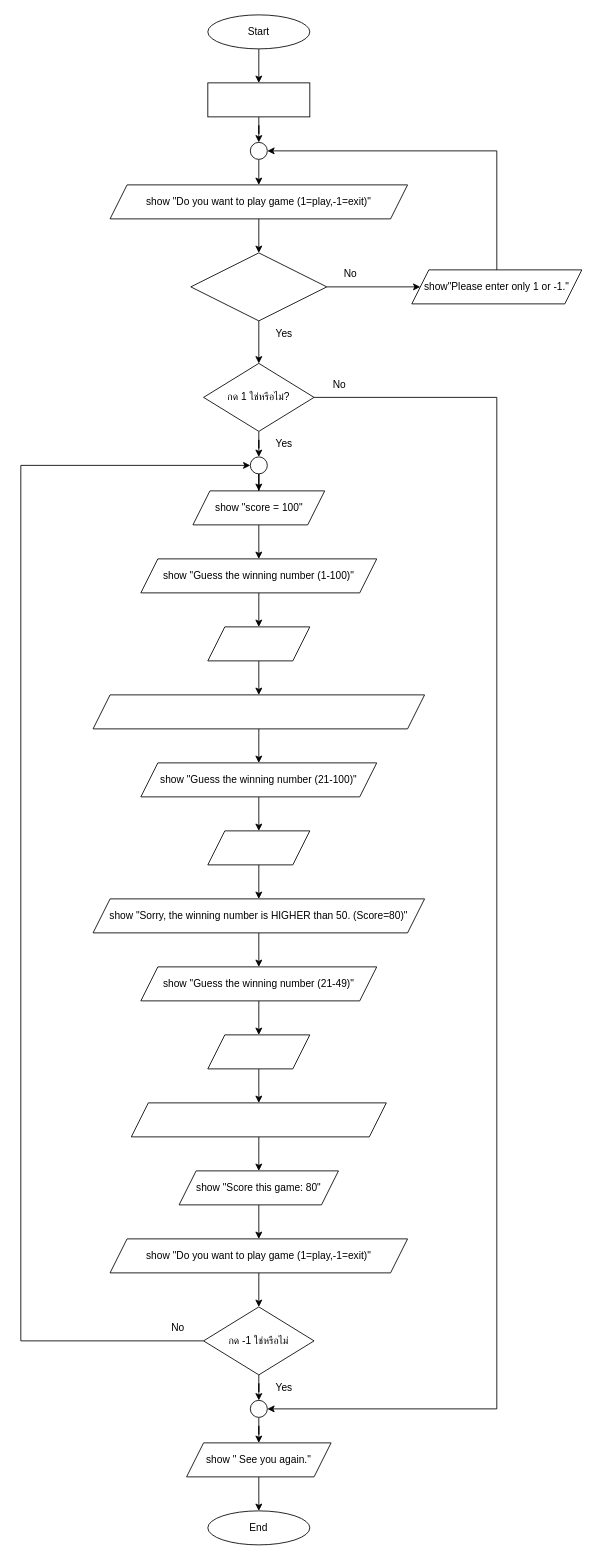
The diagram is 597 pixels wide and 1560 high, and some of its shapes have lost their labels. The centre of each missing label's shape, as x and y in pixels:
num 0: [258,99]
show "Sorry, the winning number is HIGHER than 20. (Score=90)": [258,711]
show "That is correct! The winning number is 42.": [258,1119]
กรอกตัวเลข "20": [258,643]
กรอกตัวเลข "42": [258,1051]
กรอกตัวเลข "50": [258,847]
กรอกตัวเลขมาใช่หรือไม่?: [258,286]
